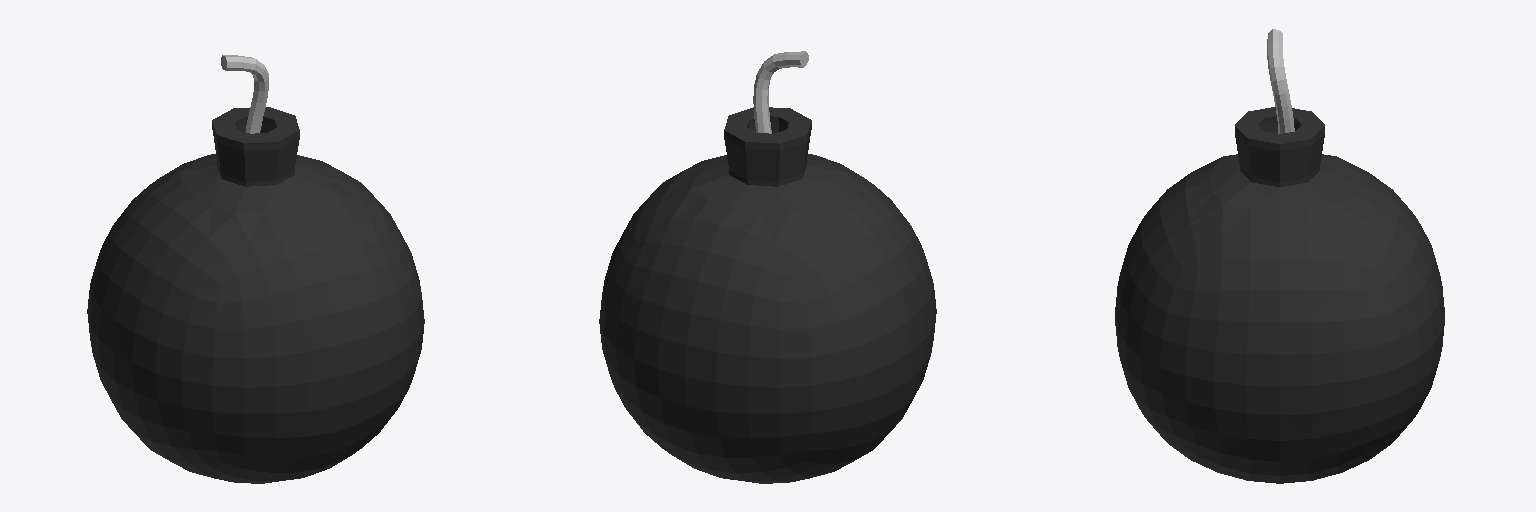
Rendered from bomb.obj.
3 renders of one model, left to right at view 1: azimuth 30°, elevation 25°; view 2: azimuth 150°, elevation 25°; view 3: azimuth 270°, elevation 25°, orthographic.
Visible parts, largest first — view 1: bomb; view 2: bomb; view 3: bomb.
Boxes of the visible parts, <box> form: bomb: <box>87,55,424,483</box>; bomb: <box>599,51,936,483</box>; bomb: <box>1115,29,1444,483</box>.
Size of the model in its own units: 0.5575 by 0.7826 by 0.5575.